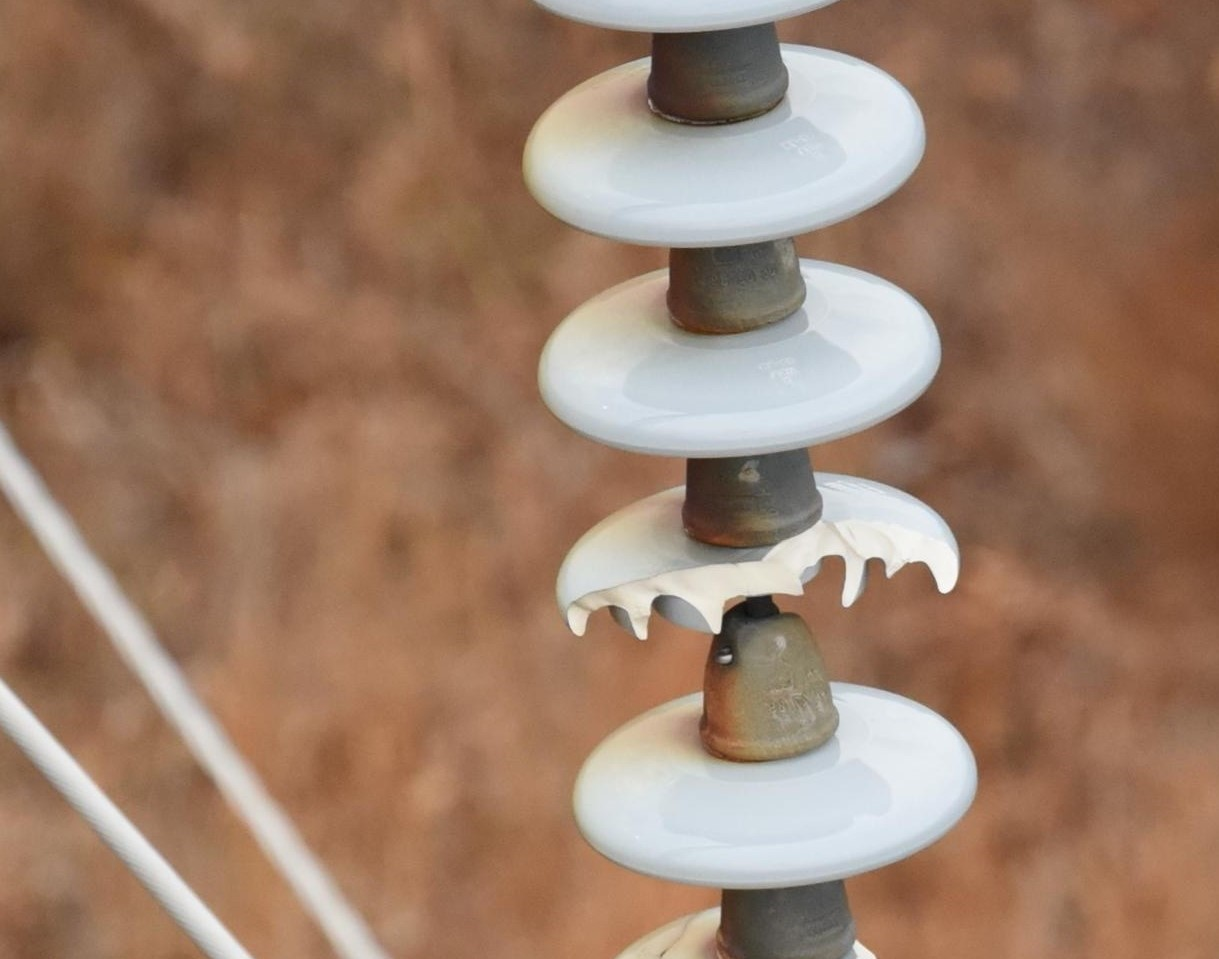insulator breakage: (526, 473, 972, 659)
